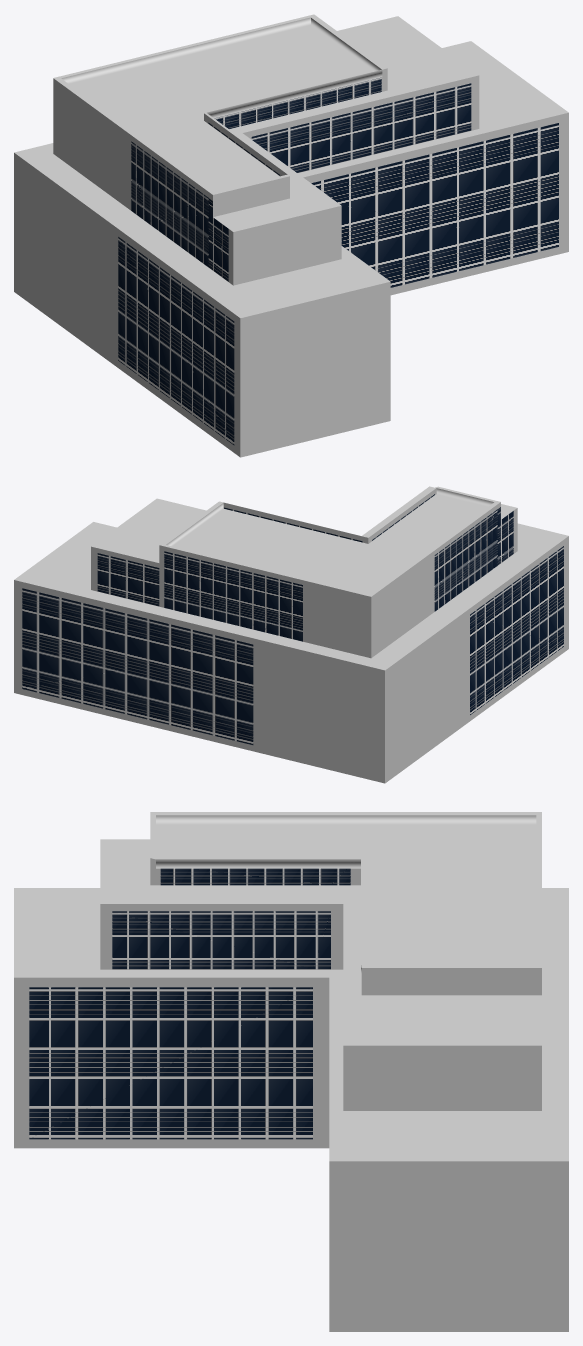
3 renders of one model, top to bottom at view 1: azimuth 30°, elevation 25°; view 2: azimuth 150°, elevation 25°; view 3: azimuth 270°, elevation 25°, orthographic. The views are drawn at different scales.
Visible parts, largest first — view 1: polySurface2; view 2: polySurface2; view 3: polySurface2.
Part boxes in pixels (bbox=[...]): polySurface2: bbox=[14, 14, 568, 457]; polySurface2: bbox=[14, 486, 568, 783]; polySurface2: bbox=[14, 812, 568, 1331].
Size of the model in its own units: 64.21 by 28.86 by 55.09.
